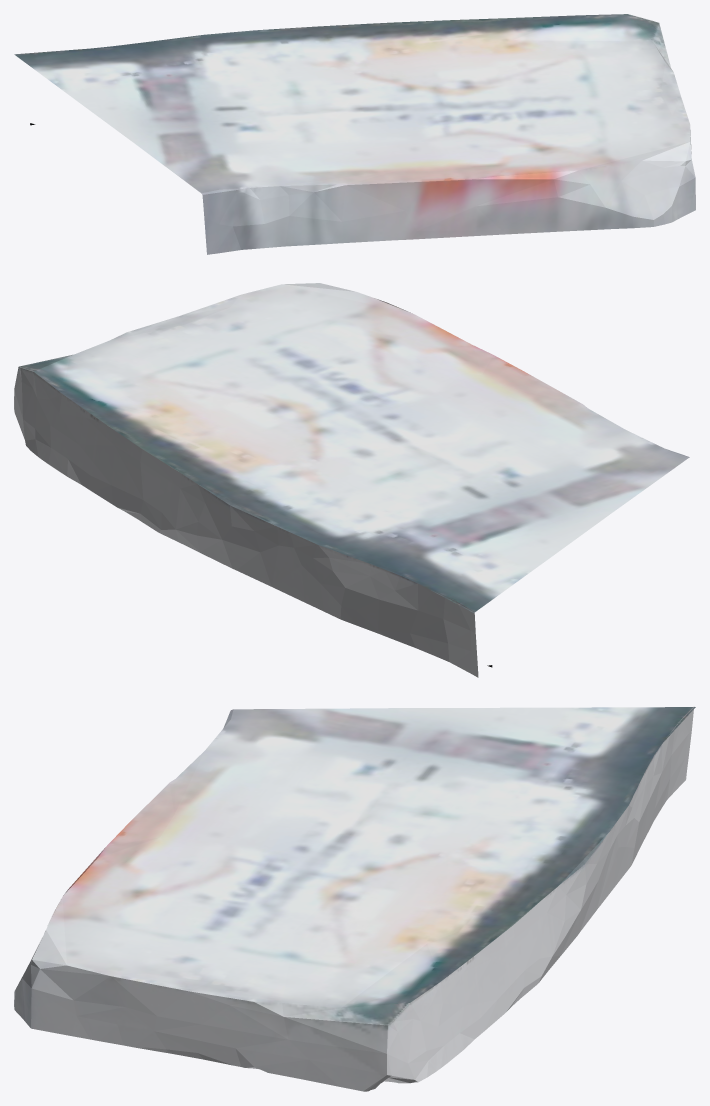
3 renders of one model, top to bottom at view 1: azimuth 30°, elevation 25°; view 2: azimuth 150°, elevation 25°; view 3: azimuth 270°, elevation 25°, orthographic. The views are drawn at different scales.
Size of the model in its own units: 1.34 by 0.1528 by 1.22.
Materials: 1 (1 with a texture image).
